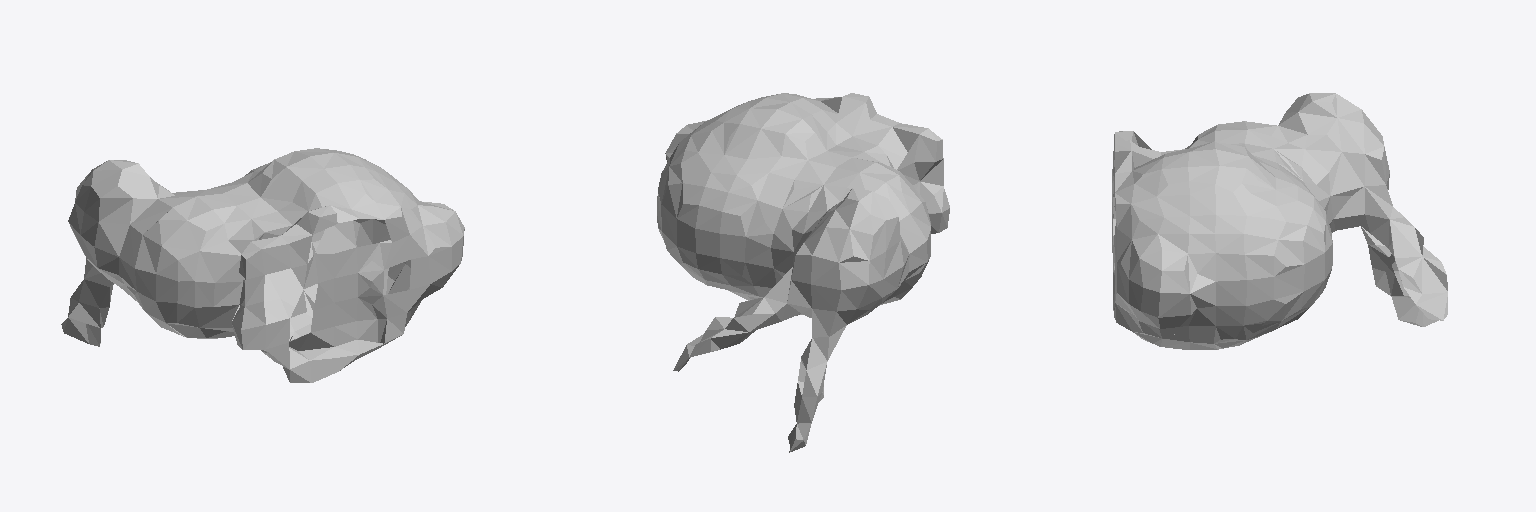
3 renders of one model, left to right at view 1: azimuth 30°, elevation 25°; view 2: azimuth 150°, elevation 25°; view 3: azimuth 270°, elevation 25°, orthographic.
Visible parts, largest first — view 1: bun_zipper_res4; view 2: bun_zipper_res4; view 3: bun_zipper_res4.
Boxes of the visible parts, <box> form: bun_zipper_res4: <box>61,148,464,382</box>; bun_zipper_res4: <box>657,93,949,452</box>; bun_zipper_res4: <box>1112,93,1447,349</box>.
Size of the model in its own units: 0.1513 by 0.1144 by 0.1483.